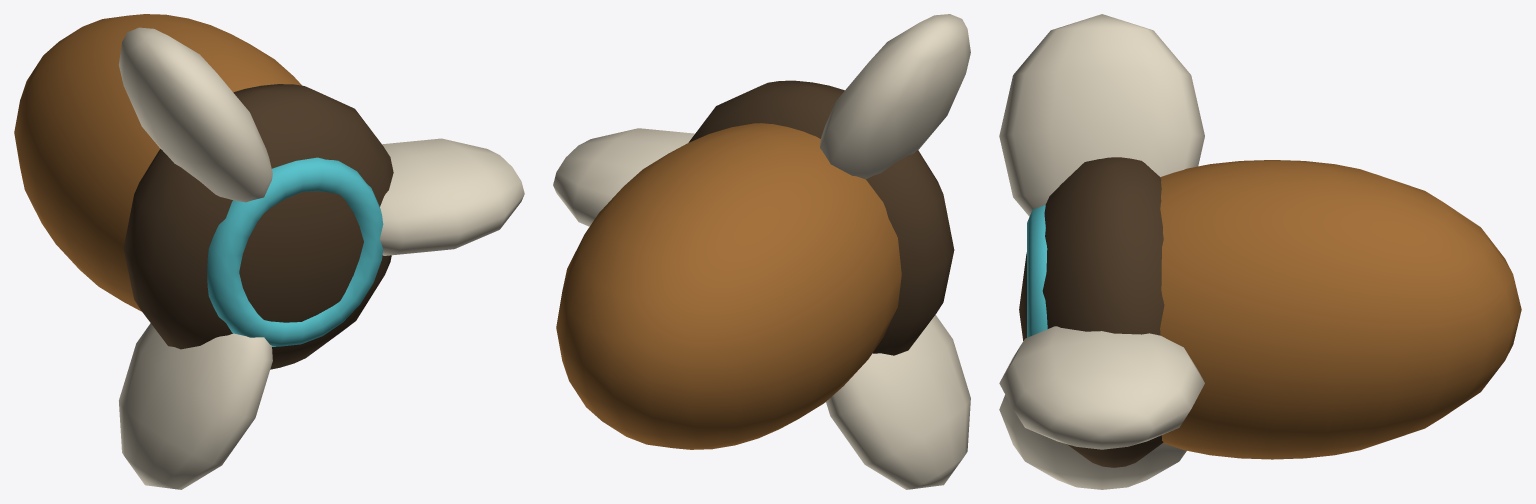
The model's file is item-acorn-bolt.glb.
3 views of the same model, side by side, from view 1: azimuth 30°, elevation 25°; view 2: azimuth 150°, elevation 25°; view 3: azimuth 270°, elevation 25° (orthographic). The views are drawn at different scales.
Visible parts, largest first — view 1: Item_acorn-bolt_VertexPalette; view 2: Item_acorn-bolt_VertexPalette; view 3: Item_acorn-bolt_VertexPalette.
Part boxes in pixels (bbox=[...]): Item_acorn-bolt_VertexPalette: bbox=[14, 14, 524, 489]; Item_acorn-bolt_VertexPalette: bbox=[553, 14, 970, 489]; Item_acorn-bolt_VertexPalette: bbox=[999, 14, 1521, 489].
Bounding box in the file's own units: 1.16 × 1.3 × 1.32.
